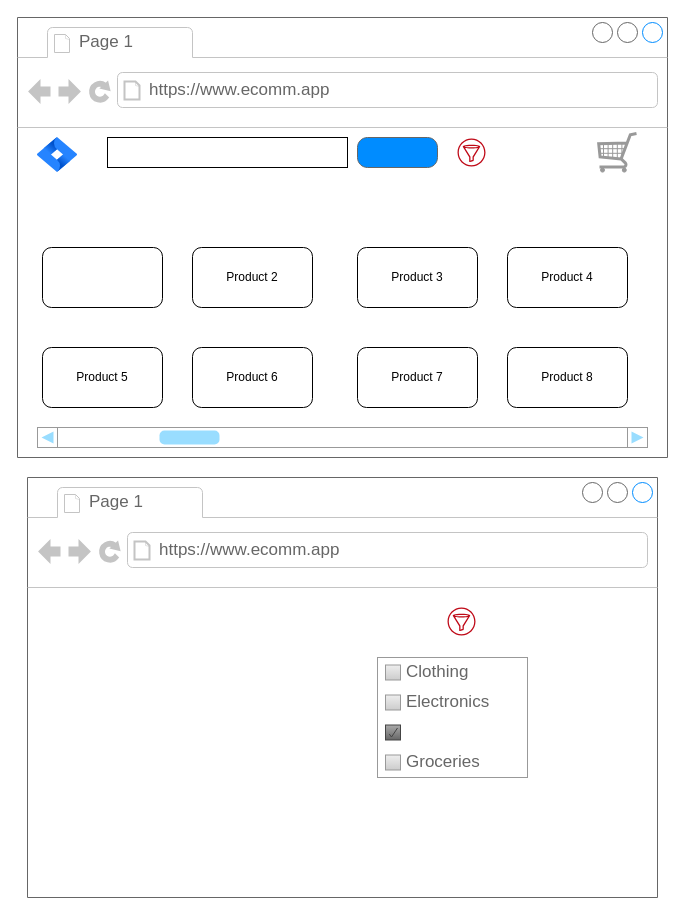
Some shapes in this 685 by 915 pixel diagram are drawn without their labels. Here are the shapes that lost their labels. From the top down, the box of each, then its label:
(106, 136, 348, 168): SearchBar
(356, 136, 438, 168): search
(42, 246, 162, 308): Product 1
(384, 724, 400, 740): Home needs
